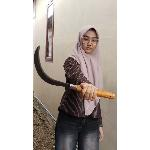Celurit: (33, 42, 117, 100)
